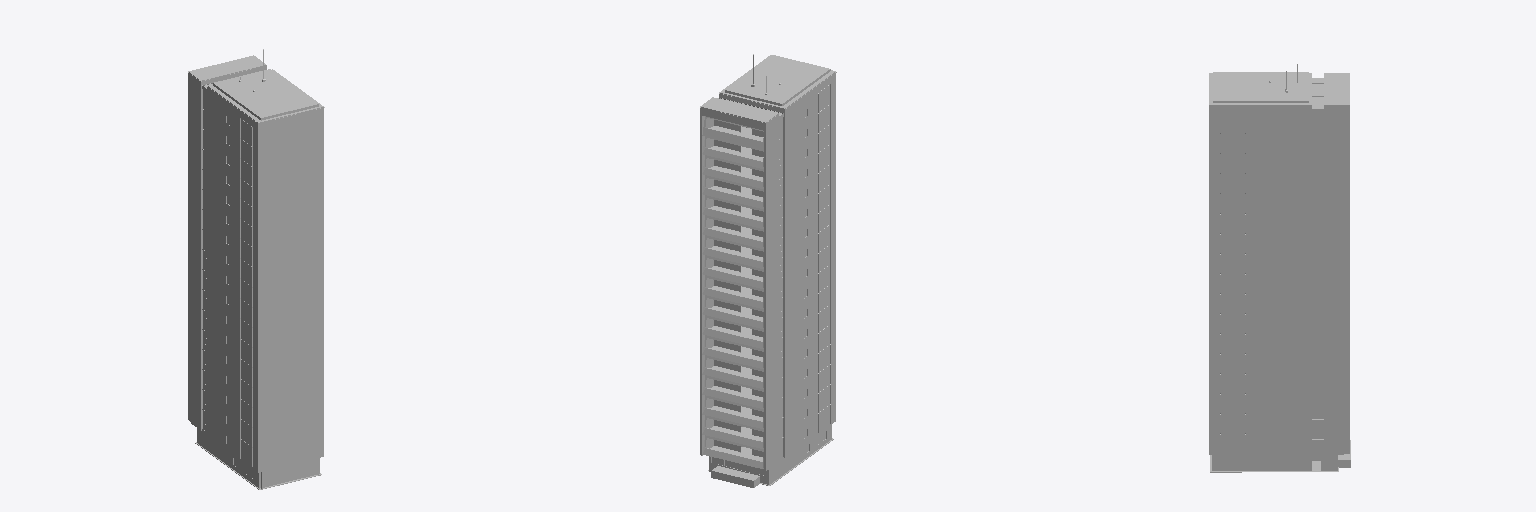
File: Residential Buildings 008.obj
3 views of the same model, side by side, from view 1: azimuth 30°, elevation 25°; view 2: azimuth 150°, elevation 25°; view 3: azimuth 270°, elevation 25° (orthographic).
Parts seen in each view (by area): view 1: Residential_Buildings_008_Cube.003; view 2: Residential_Buildings_008_Cube.003; view 3: Residential_Buildings_008_Cube.003.
Part boxes in pixels (x1,y1,x2,y2): Residential_Buildings_008_Cube.003: (188,49,324,489); Residential_Buildings_008_Cube.003: (700,54,836,487); Residential_Buildings_008_Cube.003: (1209,64,1350,472).
Bounding box in the file's own units: 12.59 × 72.39 × 23.1.